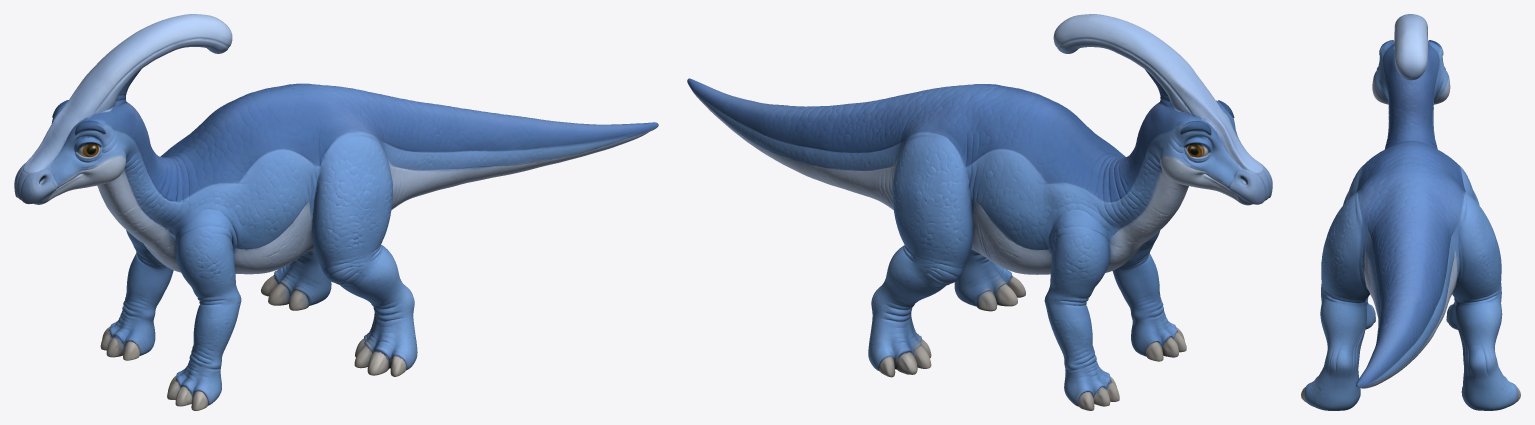
File: parasaurolophus-tripo.glb
3 renders of one model, left to right at view 1: azimuth 30°, elevation 25°; view 2: azimuth 150°, elevation 25°; view 3: azimuth 270°, elevation 25°, orthographic. The views are drawn at different scales.
Parts seen in each view (by area): view 1: tripo_part_0, tripo_part_1, tripo_part_3, tripo_part_4, tripo_part_5, tripo_part_6, tripo_part_7, tripo_part_2, tripo_part_8, tripo_part_9; view 2: tripo_part_0, tripo_part_2, tripo_part_1, tripo_part_4, tripo_part_7, tripo_part_6, tripo_part_5, tripo_part_3, tripo_part_8, tripo_part_9; view 3: tripo_part_1, tripo_part_3, tripo_part_2, tripo_part_0, tripo_part_4, tripo_part_6, tripo_part_10, tripo_part_7, tripo_part_5.
Part boxes in pixels (x1,y1,x2,y2): tripo_part_0: (111,83,379,274); tripo_part_1: (343,87,658,209); tripo_part_3: (311,131,417,370); tripo_part_4: (14,100,150,218); tripo_part_5: (167,209,241,410); tripo_part_6: (67,14,232,119); tripo_part_7: (108,230,173,355); tripo_part_2: (261,249,331,310); tripo_part_8: (354,338,407,376); tripo_part_9: (100,327,139,360); tripo_part_0: (904,84,1174,274); tripo_part_2: (868,131,974,377); tripo_part_1: (687,78,941,210); tripo_part_4: (1136,100,1272,219); tripo_part_7: (1044,209,1111,406); tripo_part_6: (1053,14,1219,118); tripo_part_5: (1112,230,1186,361); tripo_part_3: (954,249,1011,306); tripo_part_8: (975,275,1025,311); tripo_part_9: (1078,376,1119,410); tripo_part_1: (1356,195,1459,388); tripo_part_3: (1304,192,1370,410); tripo_part_2: (1452,192,1520,410); tripo_part_0: (1346,109,1476,228); tripo_part_4: (1372,40,1450,134); tripo_part_6: (1394,14,1427,80); tripo_part_10: (1397,178,1424,196); tripo_part_7: (1446,190,1479,329); tripo_part_5: (1343,192,1375,329).
Bounding box in the file's own units: 0.9793 × 0.5397 × 0.3488.
1 material, 1 textured.
